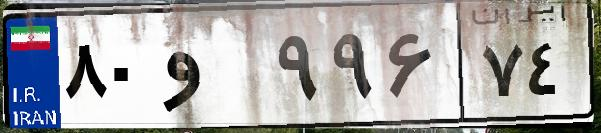0: (110, 28, 158, 98)
4: (525, 38, 570, 115)
6: (385, 28, 445, 110)
7: (475, 38, 525, 113)
8: (57, 26, 110, 100)
9: (270, 28, 330, 110), (330, 28, 385, 110)
و: (158, 20, 270, 120)
